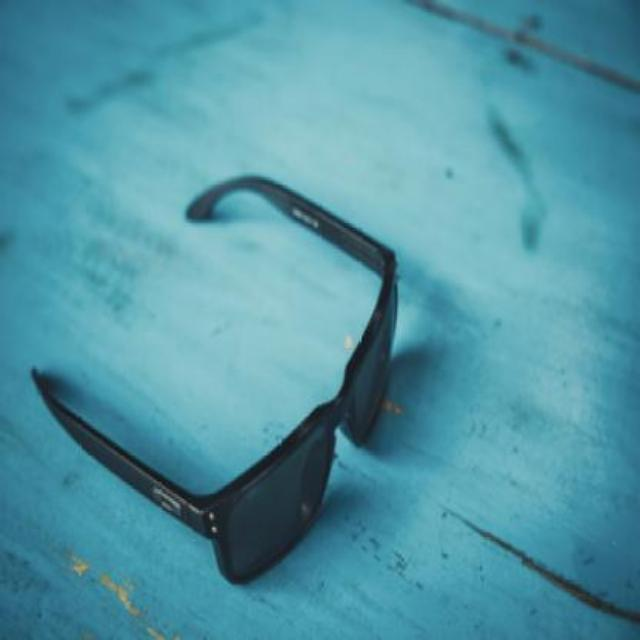sunglasses: (31, 172, 398, 584)
